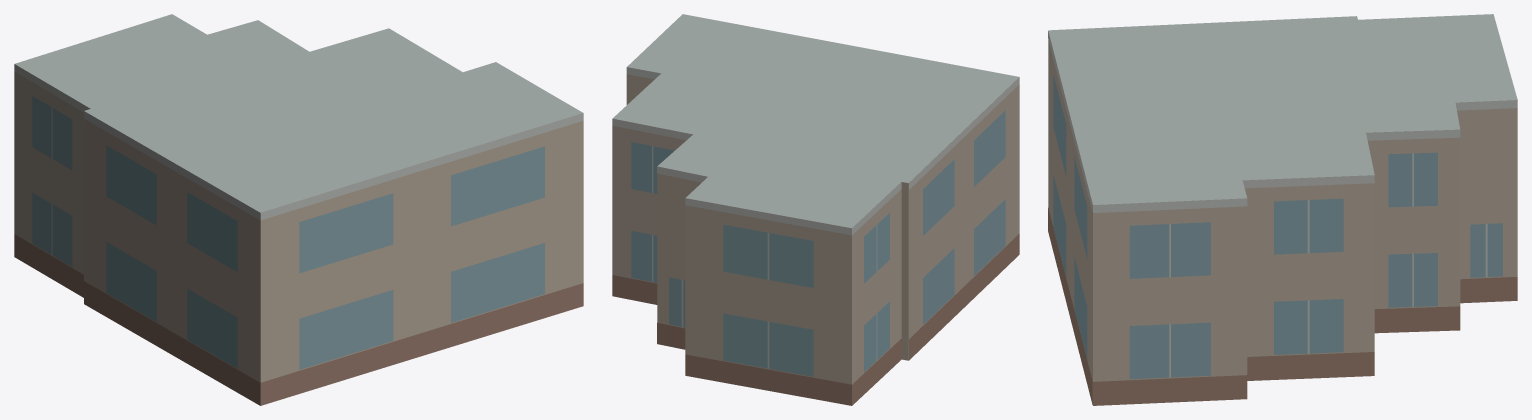
File: survey-upis-32659636.glb
3 renders of one model, left to right at view 1: azimuth 30°, elevation 25°; view 2: azimuth 150°, elevation 25°; view 3: azimuth 270°, elevation 25°, orthographic. The views are drawn at different scales.
Visible parts, largest first — view 1: survey-upis-32659636.tmp; view 2: survey-upis-32659636.tmp; view 3: survey-upis-32659636.tmp.
Boxes of the visible parts, box(x1,y1,x2,y2) form: survey-upis-32659636.tmp: box(14, 14, 583, 405); survey-upis-32659636.tmp: box(612, 14, 1019, 405); survey-upis-32659636.tmp: box(1048, 14, 1517, 405).
Bounding box in the file's own units: 12.46 × 6.1 × 12.94.
